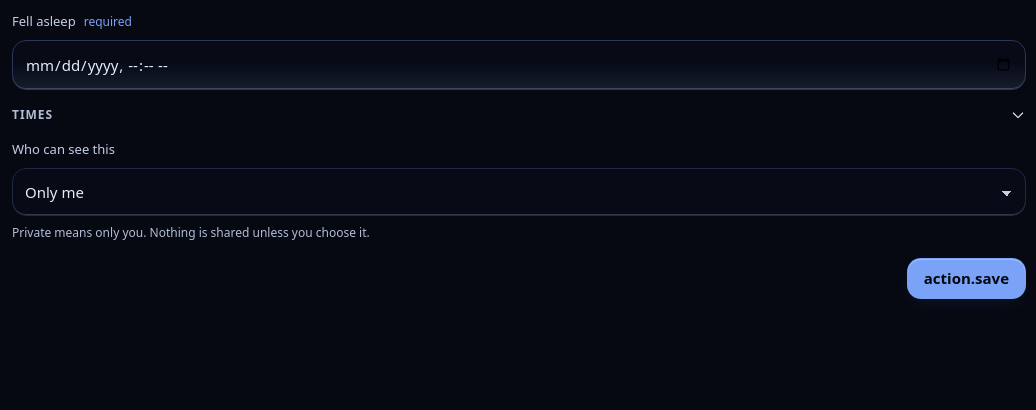
Test case: RecordForm — grouped fields › keeps a named group closed until it is opened
Expected: the field labelled "Went to bed" is not shown
Click the button "Times" at coordinates (33, 114), box [12,106,1026,124]
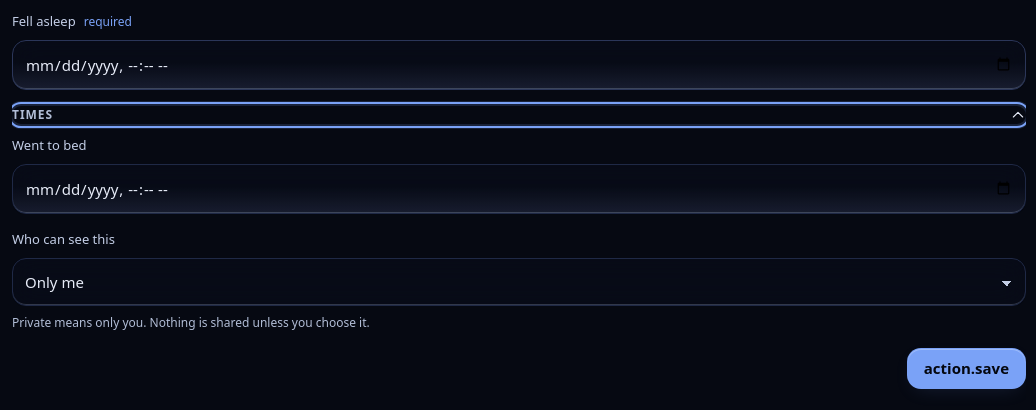
Now the field labelled "Went to bed" is shown, box [12,164,1026,214]
